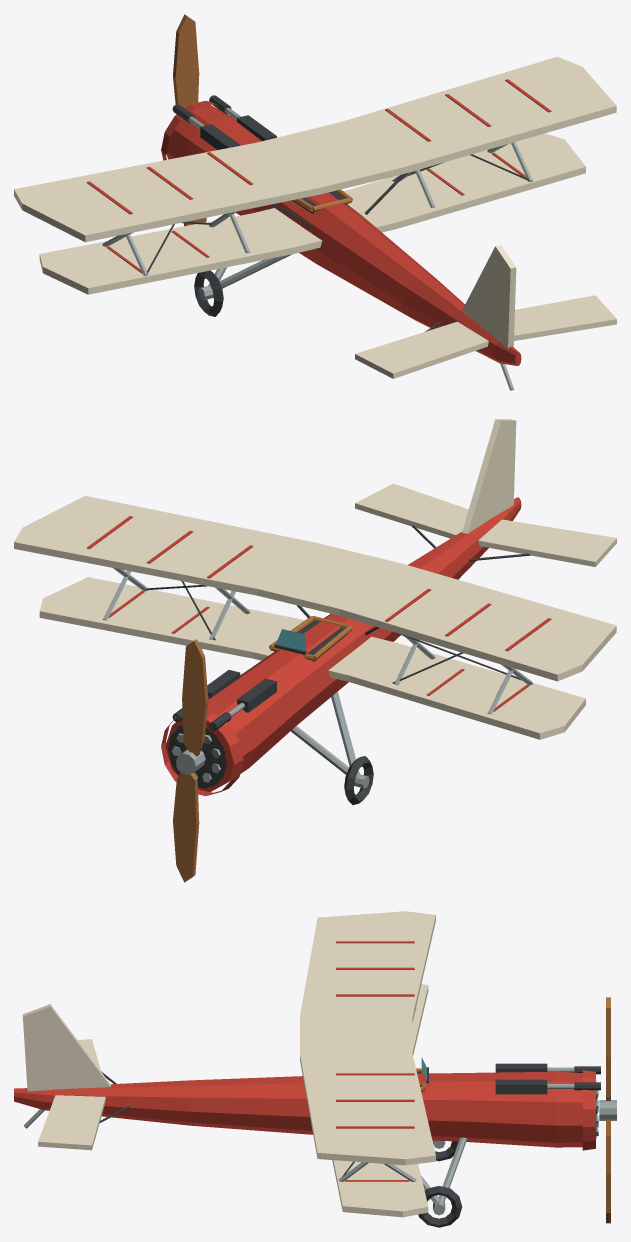
Rendered from biplane-v1.glb.
The picture shows the model from 3 angles, top to bottom: view 1: azimuth 30°, elevation 25°; view 2: azimuth 150°, elevation 25°; view 3: azimuth 270°, elevation 25°; orthographic projection. The views are drawn at different scales.
Visible parts, largest first — view 1: biplane-airframe, biplane-propeller-blades; view 2: biplane-airframe, biplane-propeller-blades; view 3: biplane-airframe, biplane-propeller-blades.
Boxes of the visible parts, bbox=[...] form: biplane-airframe: bbox=[14, 56, 616, 390]; biplane-propeller-blades: bbox=[173, 14, 206, 226]; biplane-airframe: bbox=[14, 419, 616, 805]; biplane-propeller-blades: bbox=[173, 639, 208, 882]; biplane-airframe: bbox=[14, 911, 600, 1227]; biplane-propeller-blades: bbox=[599, 997, 616, 1223].
Size of the model in its own units: 23.3 by 9.7 by 23.94.
